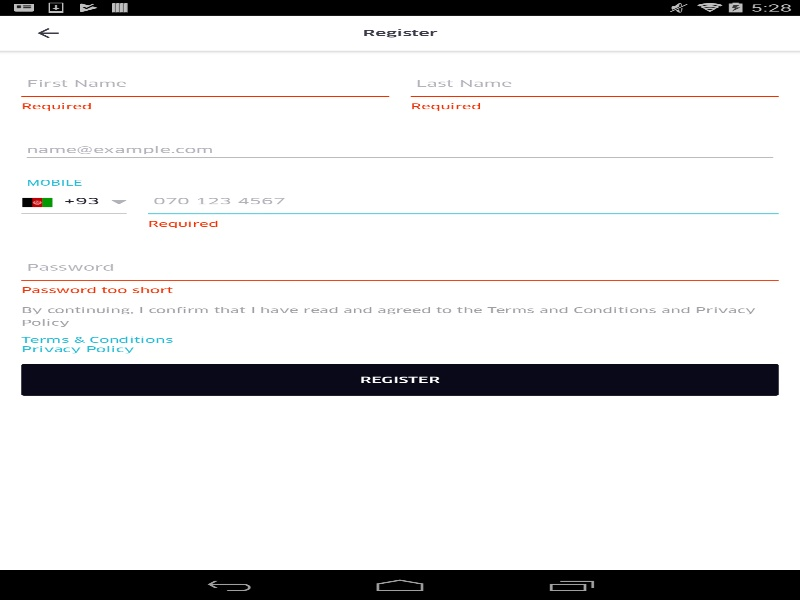Button: (10, 15, 85, 50)
Input: (21, 139, 778, 163), (21, 256, 778, 280), (148, 190, 778, 214), (21, 73, 389, 96), (410, 73, 778, 96)
